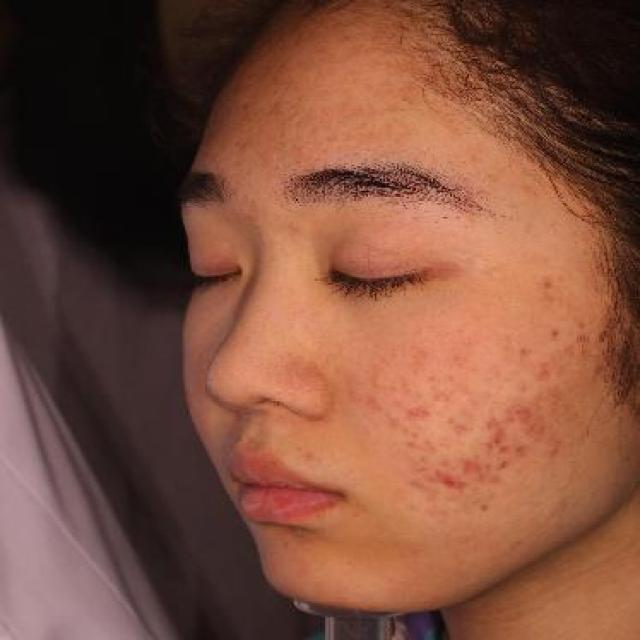dark spot: (541, 325, 566, 343), (472, 497, 494, 517), (534, 276, 559, 292)
papules: (428, 463, 467, 494)
